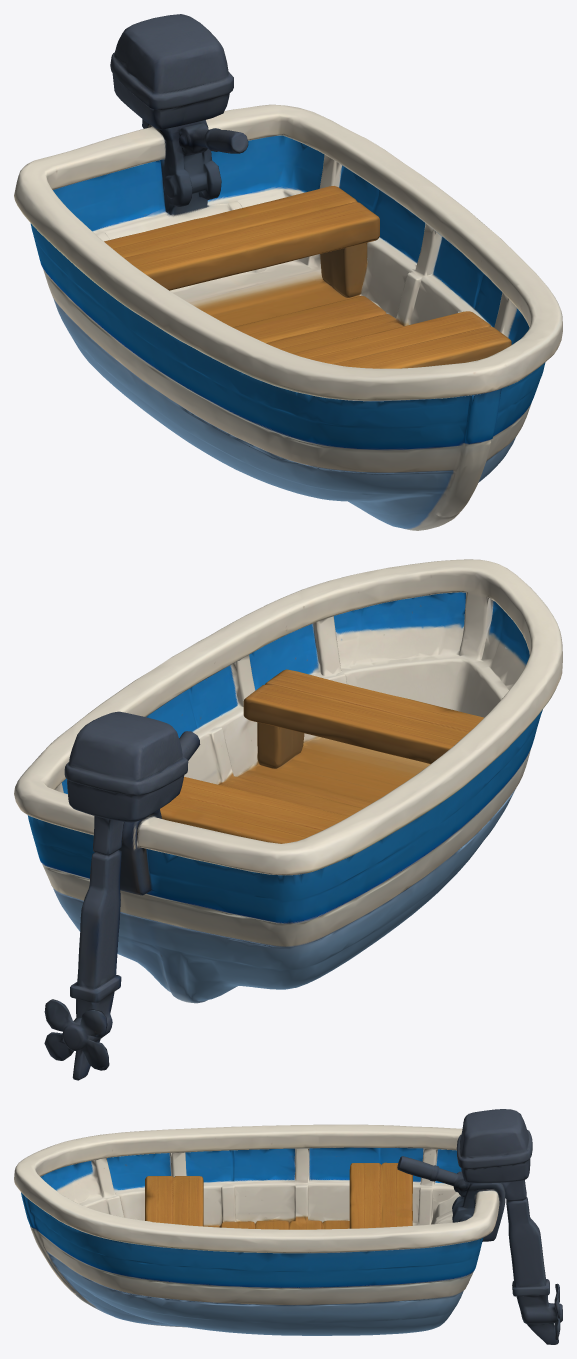
Rendered from texture.glb.
3 renders of one model, top to bottom at view 1: azimuth 30°, elevation 25°; view 2: azimuth 150°, elevation 25°; view 3: azimuth 270°, elevation 25°, orthographic. The views are drawn at different scales.
Parts seen in each view (by area): view 1: tripo_node_ecd0dfdd-019b-4097-ab71-0ad6b2638efe; view 2: tripo_node_ecd0dfdd-019b-4097-ab71-0ad6b2638efe; view 3: tripo_node_ecd0dfdd-019b-4097-ab71-0ad6b2638efe.
Boxes of the visible parts, x1,y1,x2,y2 form: tripo_node_ecd0dfdd-019b-4097-ab71-0ad6b2638efe: [14, 14, 562, 530]; tripo_node_ecd0dfdd-019b-4097-ab71-0ad6b2638efe: [14, 559, 562, 1080]; tripo_node_ecd0dfdd-019b-4097-ab71-0ad6b2638efe: [14, 1109, 562, 1344].
Bounding box in the file's own units: 0.4953 × 0.4521 × 1.
1 material, 1 textured.
